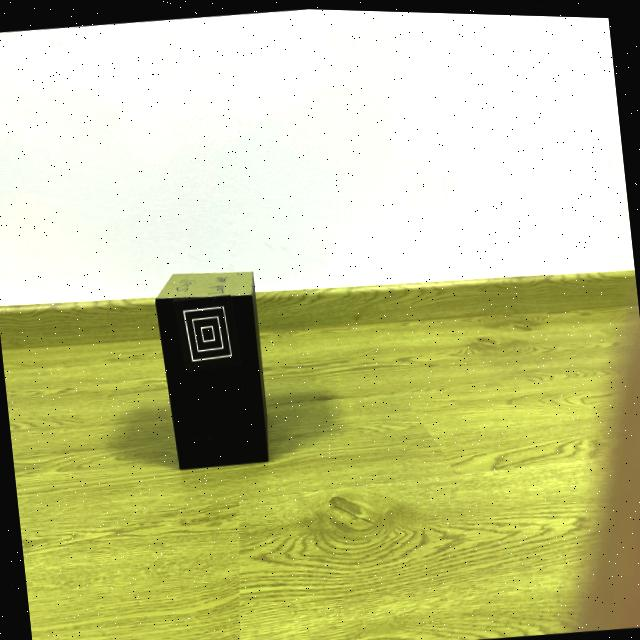BULLSEYE: (172, 293, 242, 372)
